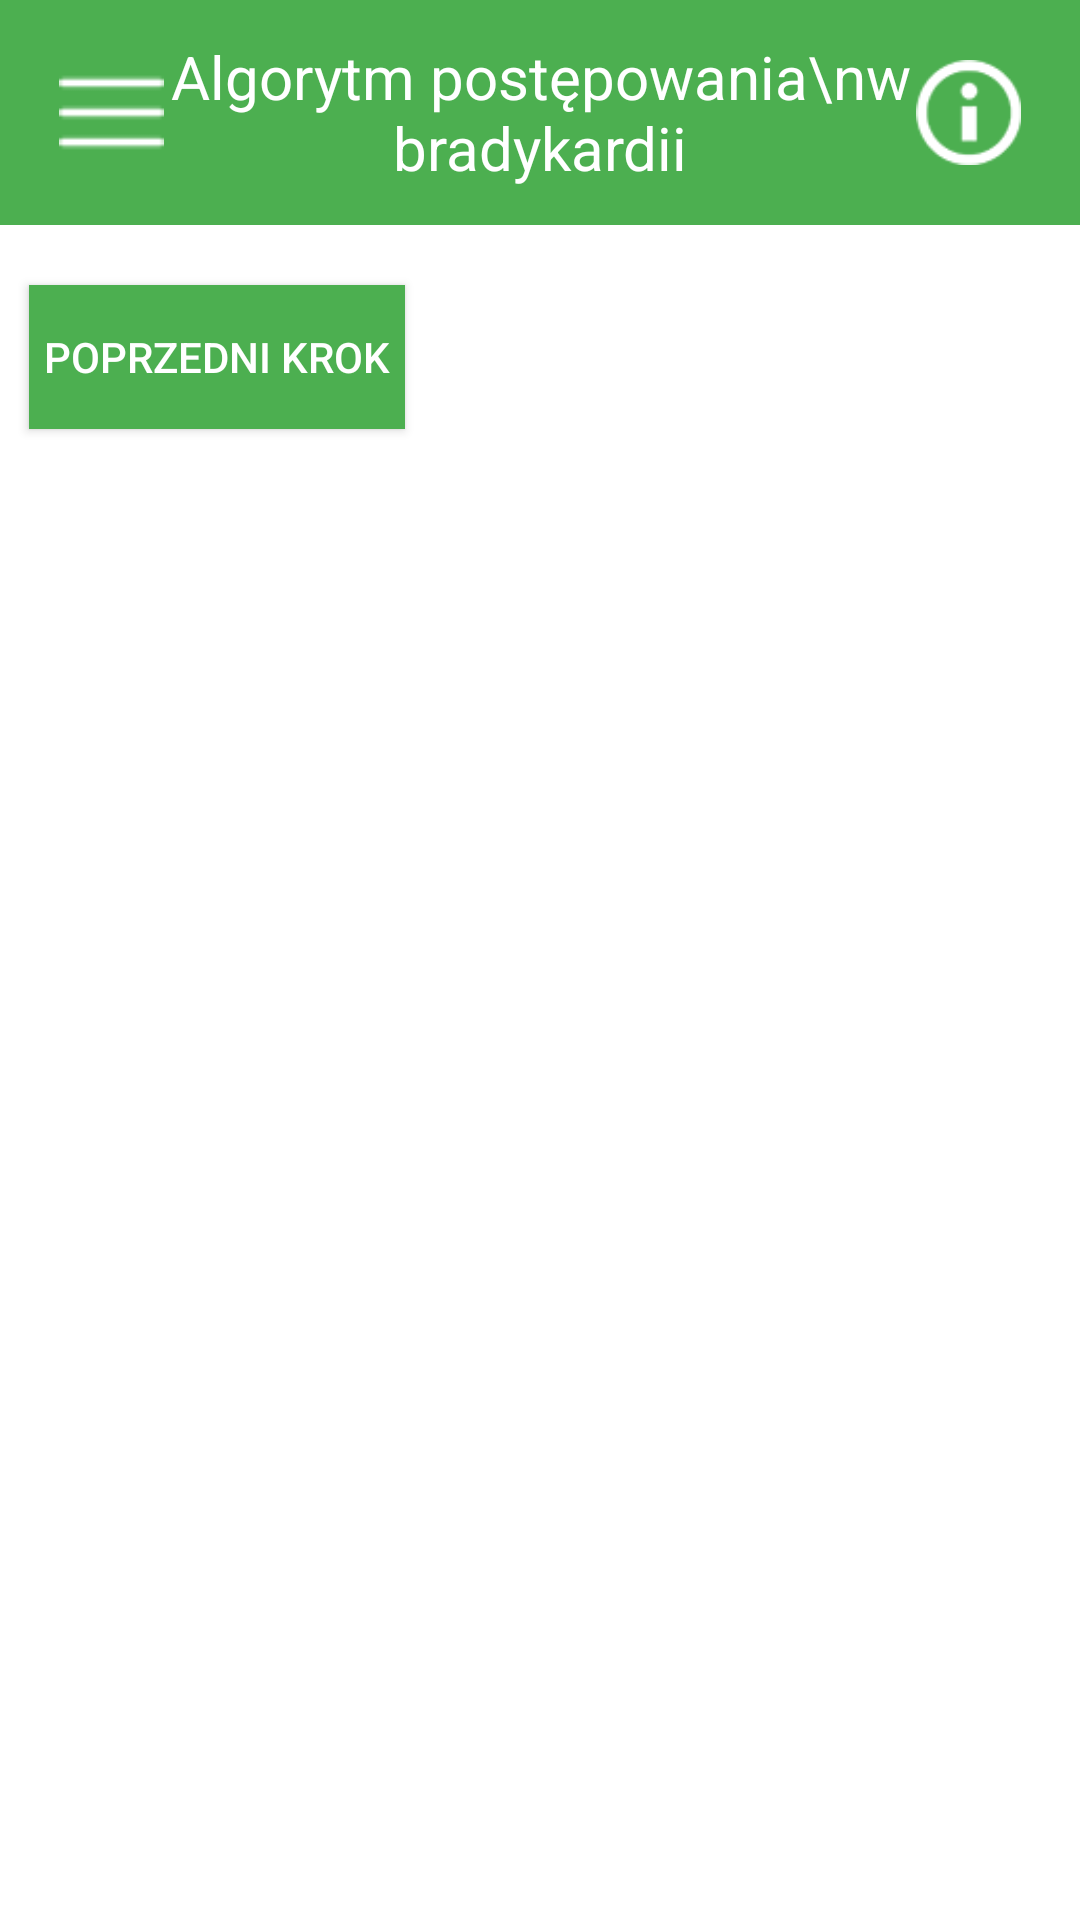

Where icons sit on this 1080*1920 app screen, as (x1, y1, x2, y2):
info: (916, 60, 1021, 165)
open: (59, 77, 164, 148)
